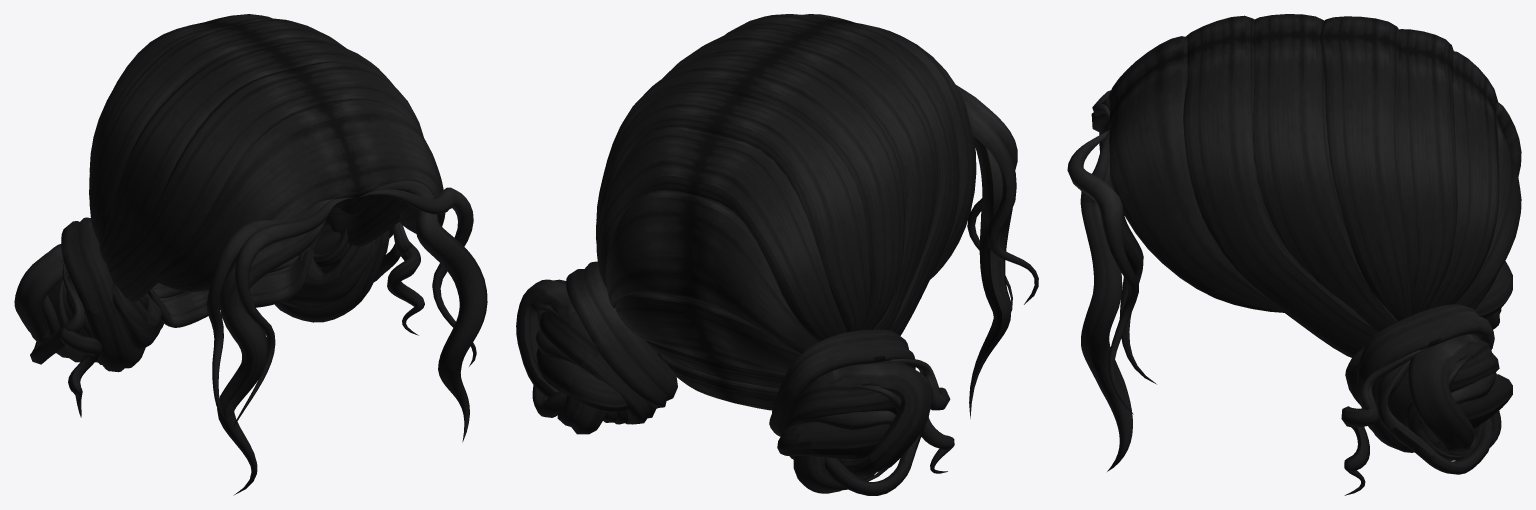
File: hair13.glb
3 views of the same model, side by side, from view 1: azimuth 30°, elevation 25°; view 2: azimuth 150°, elevation 25°; view 3: azimuth 270°, elevation 25° (orthographic). The views are drawn at different scales.
Visible parts, largest first — view 1: s4studio_mesh_2, s4studio_mesh_1, s4studio_mesh_3; view 2: s4studio_mesh_2, s4studio_mesh_1, s4studio_mesh_3; view 3: s4studio_mesh_2, s4studio_mesh_1, s4studio_mesh_3.
Boxes of the visible parts, bbox=[...] form: s4studio_mesh_2: bbox=[89, 14, 487, 495]; s4studio_mesh_1: bbox=[14, 165, 445, 417]; s4studio_mesh_3: bbox=[89, 176, 444, 264]; s4studio_mesh_2: bbox=[596, 14, 1038, 418]; s4studio_mesh_1: bbox=[516, 94, 976, 495]; s4studio_mesh_3: bbox=[596, 172, 975, 314]; s4studio_mesh_2: bbox=[1067, 14, 1521, 471]; s4studio_mesh_1: bbox=[1108, 93, 1512, 495]; s4studio_mesh_3: bbox=[1137, 173, 1519, 279].
Size of the model in its own units: 0.2318 by 0.22 by 0.2237.
Materials: 1 (1 with a texture image).
